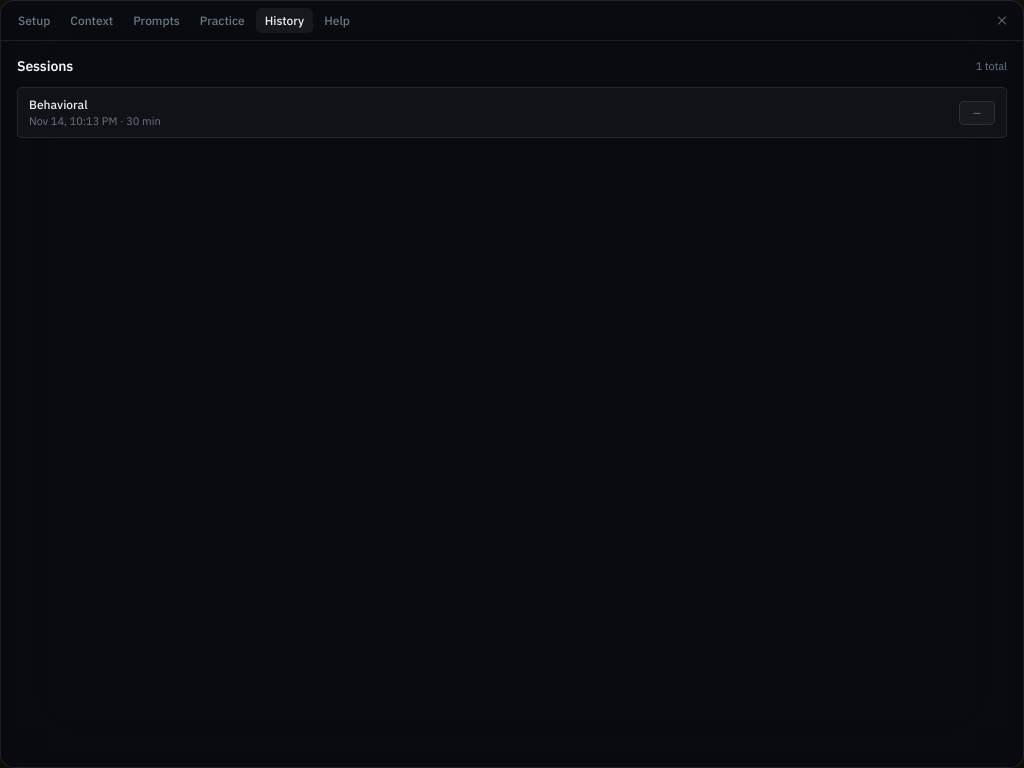
Scenario: History tab › falls back to legacy feedback when rubric is empty
The width and height of the screenshot is (1024, 768).
Step 1. Click the button with class "session-row" → [58, 104], box [17,87,1007,138]
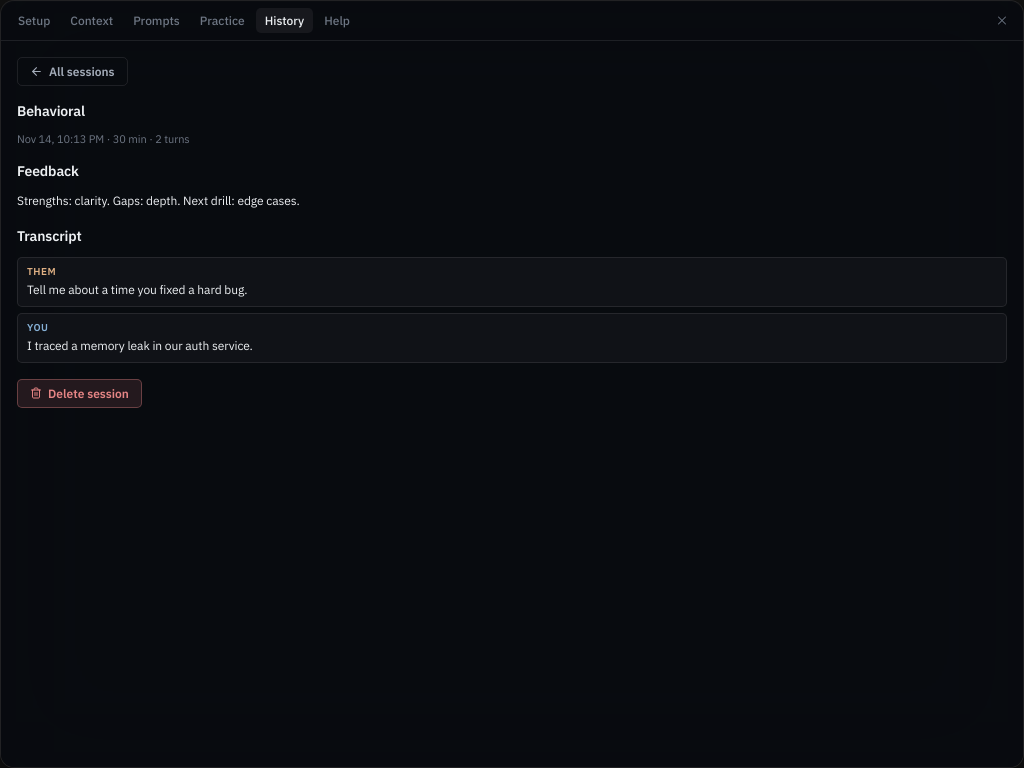
Check: the text "Strengths: clarity. Gaps: depth. Next drill: edge cases." is shown, box [17,193,300,208]
